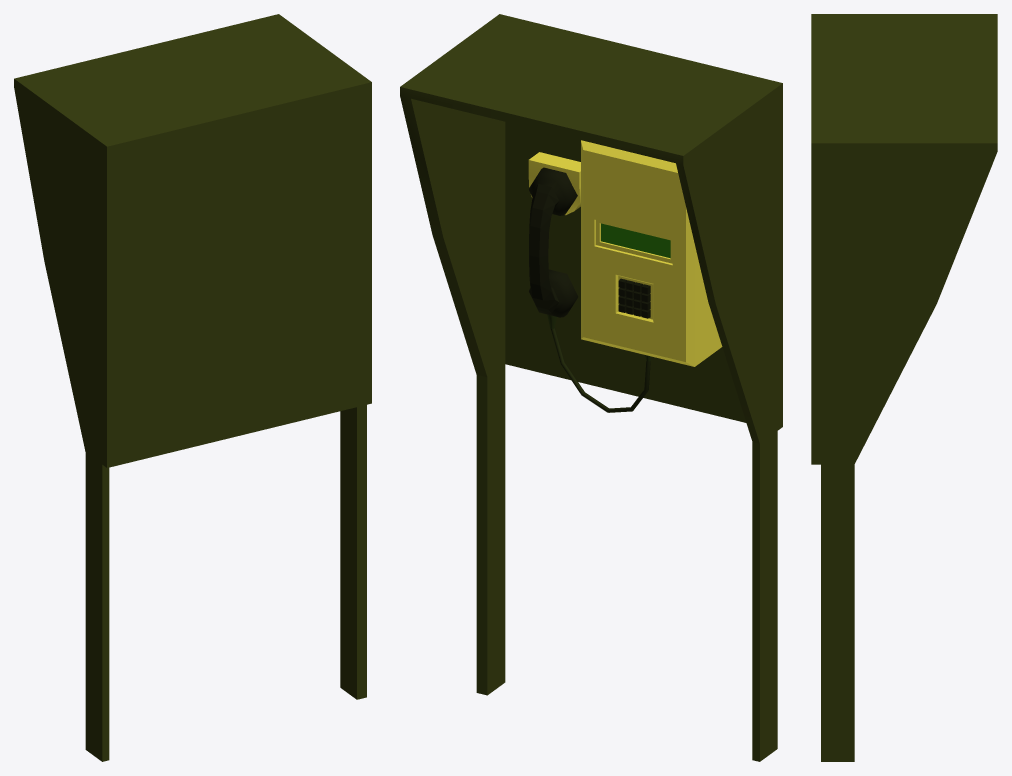
Rendered from SM_Phone.fbx.
3 renders of one model, left to right at view 1: azimuth 30°, elevation 25°; view 2: azimuth 150°, elevation 25°; view 3: azimuth 270°, elevation 25°, orthographic. The views are drawn at different scales.
Parts seen in each view (by area): view 1: w; view 2: w; view 3: w.
Boxes of the visible parts, x1,y1,x2,y2 form: w: (14, 14, 371, 761); w: (400, 14, 782, 761); w: (811, 14, 997, 761).
Bounding box in the file's own units: 16.83 × 37.58 × 10.24.
